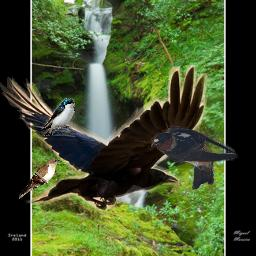Crow: (0, 65, 209, 211)
Cuckoo: (19, 158, 62, 199)
Swallow: (151, 125, 238, 190), (41, 98, 75, 136)
